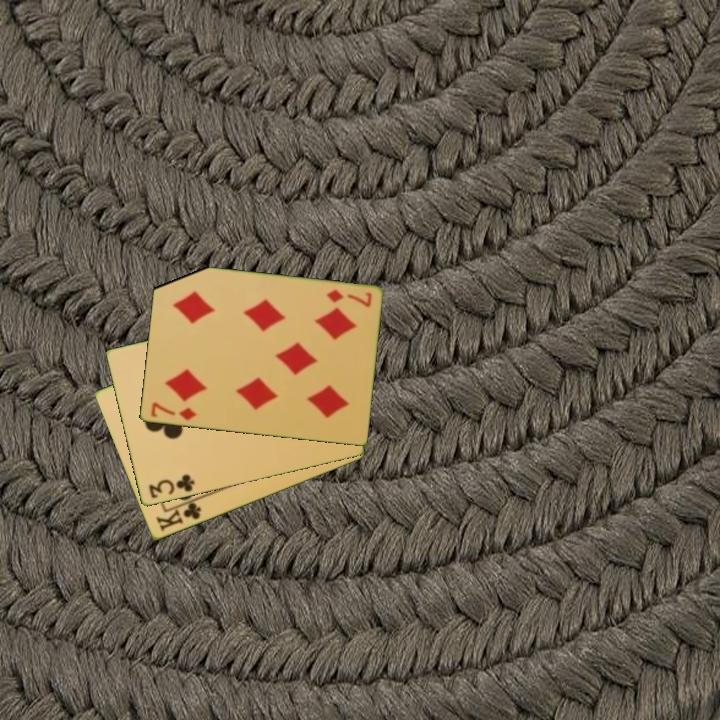3c: (145, 471, 197, 502)
7d: (147, 399, 199, 424), (323, 286, 374, 310)
Kc: (152, 495, 204, 535)
